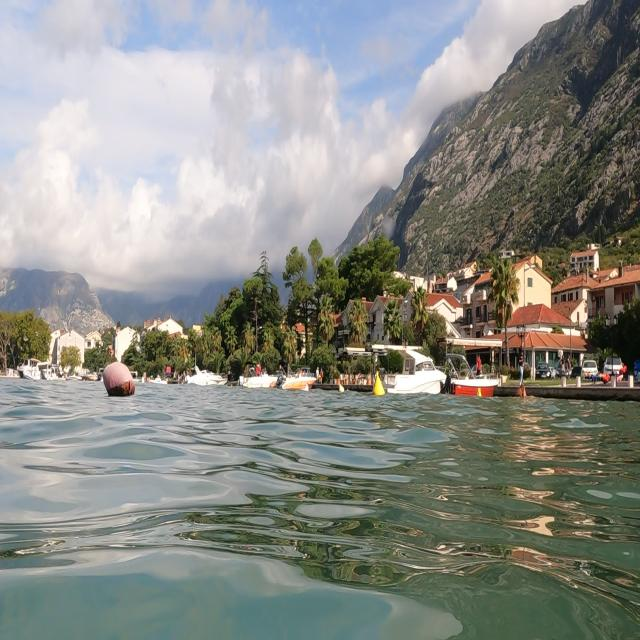boat: (366, 334, 458, 402), (442, 331, 514, 402), (18, 354, 72, 386), (282, 357, 324, 398), (235, 359, 281, 394), (183, 359, 231, 392)
buoy: (97, 351, 141, 402), (372, 371, 389, 400)
